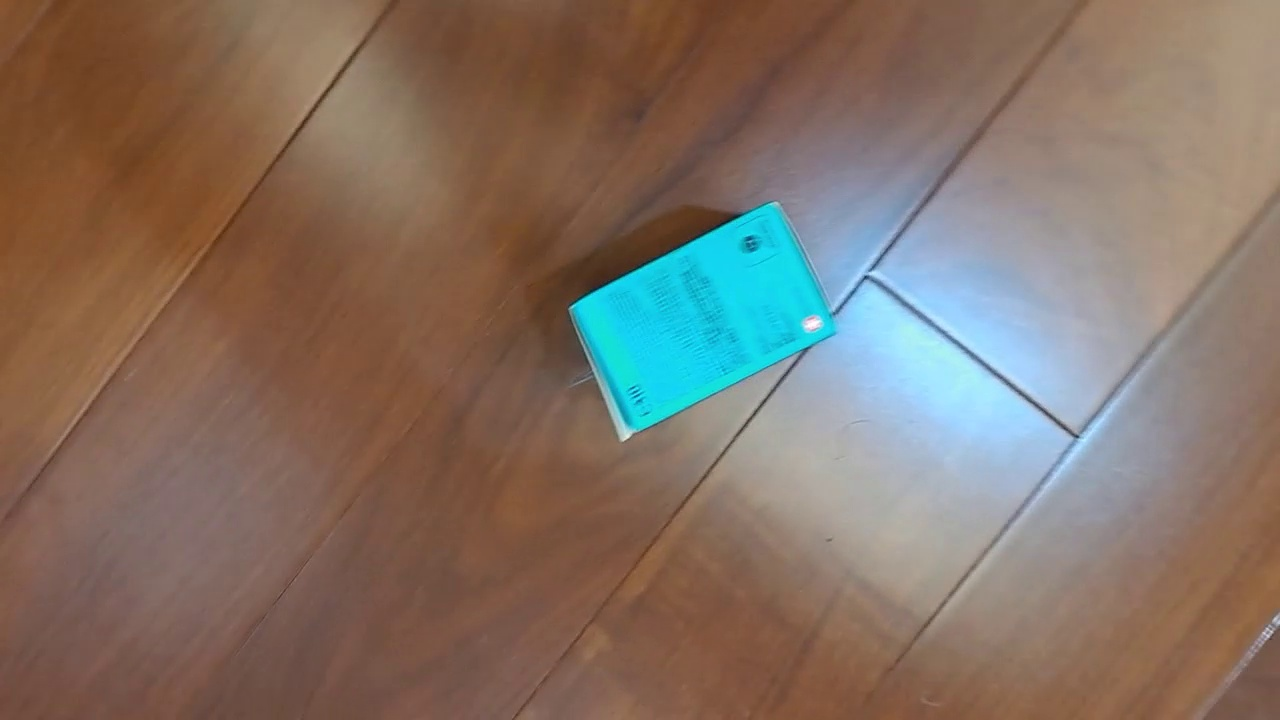webcam: (567, 200, 840, 443)
